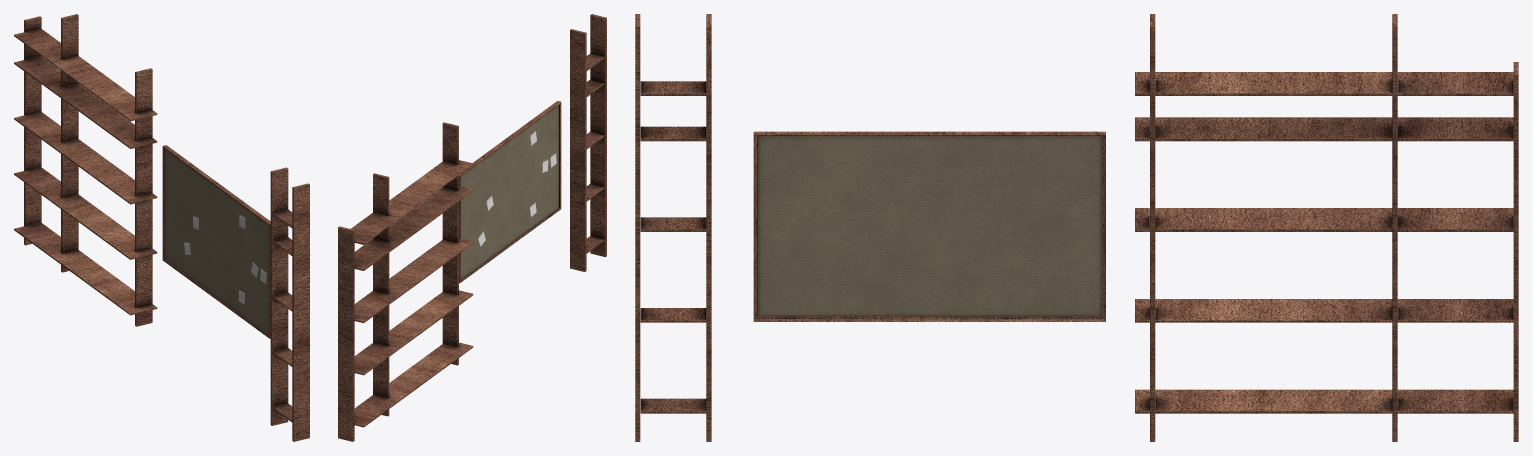
The model's file is cupboard.fbx.
3 views of the same model, side by side, from view 1: azimuth 30°, elevation 25°; view 2: azimuth 150°, elevation 25°; view 3: azimuth 270°, elevation 25° (orthographic). The views are drawn at different scales.
Visible parts, largest first — view 1: cupboard; view 2: cupboard; view 3: cupboard.
Boxes of the visible parts, x1,y1,x2,y2 form: cupboard: [14, 14, 309, 441]; cupboard: [338, 14, 606, 441]; cupboard: [635, 14, 1518, 441].
Bounding box in the file's own units: 30 × 270 × 521.
